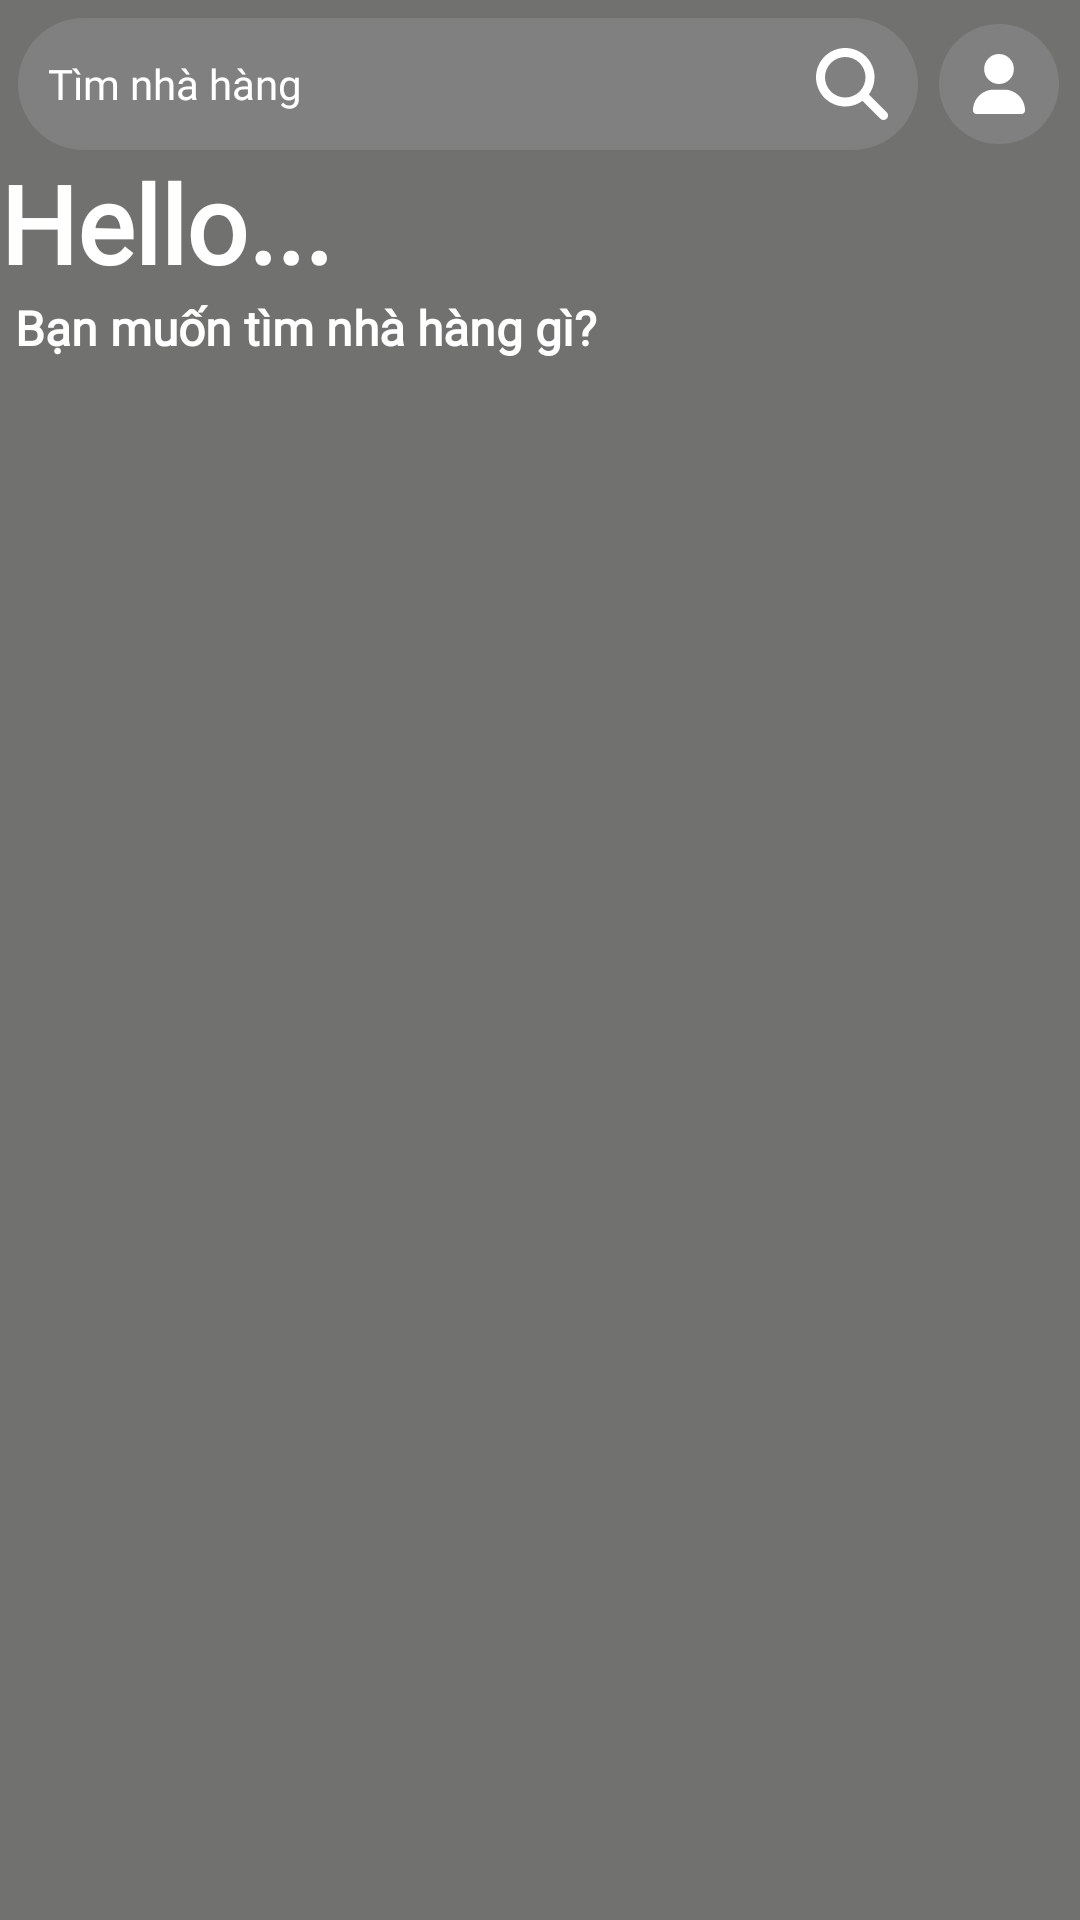

Icon click points for this 1080*1920 phone screenshot, format point (x, y):
profile: point (999, 84)
